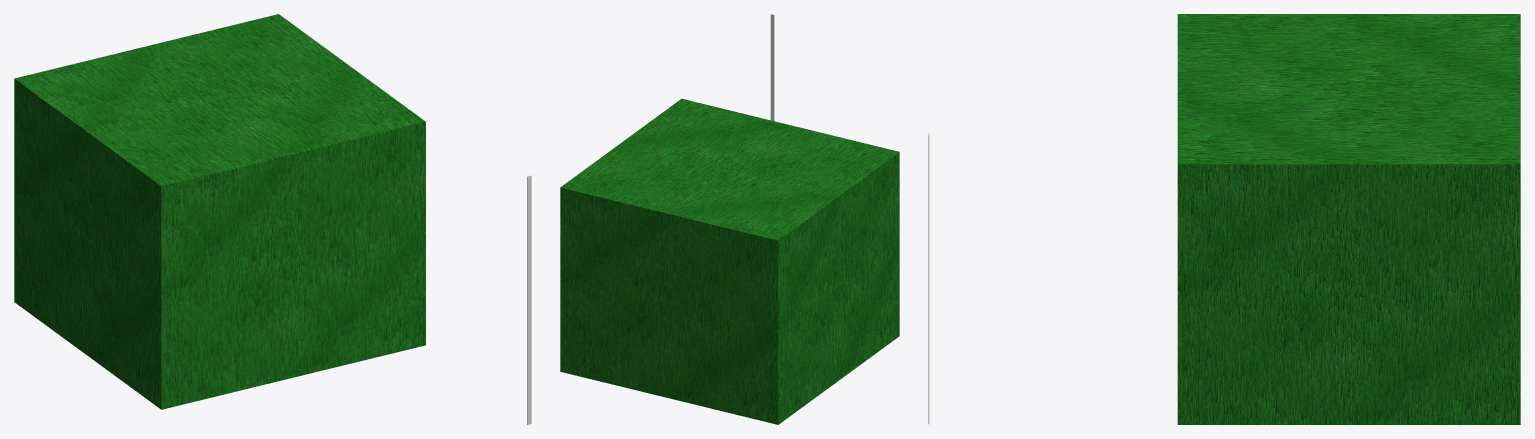
File: grass.FBX
3 renders of one model, left to right at view 1: azimuth 30°, elevation 25°; view 2: azimuth 150°, elevation 25°; view 3: azimuth 270°, elevation 25°, orthographic. The views are drawn at different scales.
Visible parts, largest first — view 1: Box001, Box002; view 2: Box001, Box002; view 3: Box001, Box002.
Part boxes in pixels (<box>): Box001: <box>14,14,425,409</box>; Box002: <box>527,175,531,424</box>; Box001: <box>560,98,899,424</box>; Box002: <box>770,14,774,121</box>; Box001: <box>1177,14,1520,424</box>; Box002: <box>928,132,929,424</box>.
Size of the model in its own units: 20.2 by 18.11 by 33.63.
